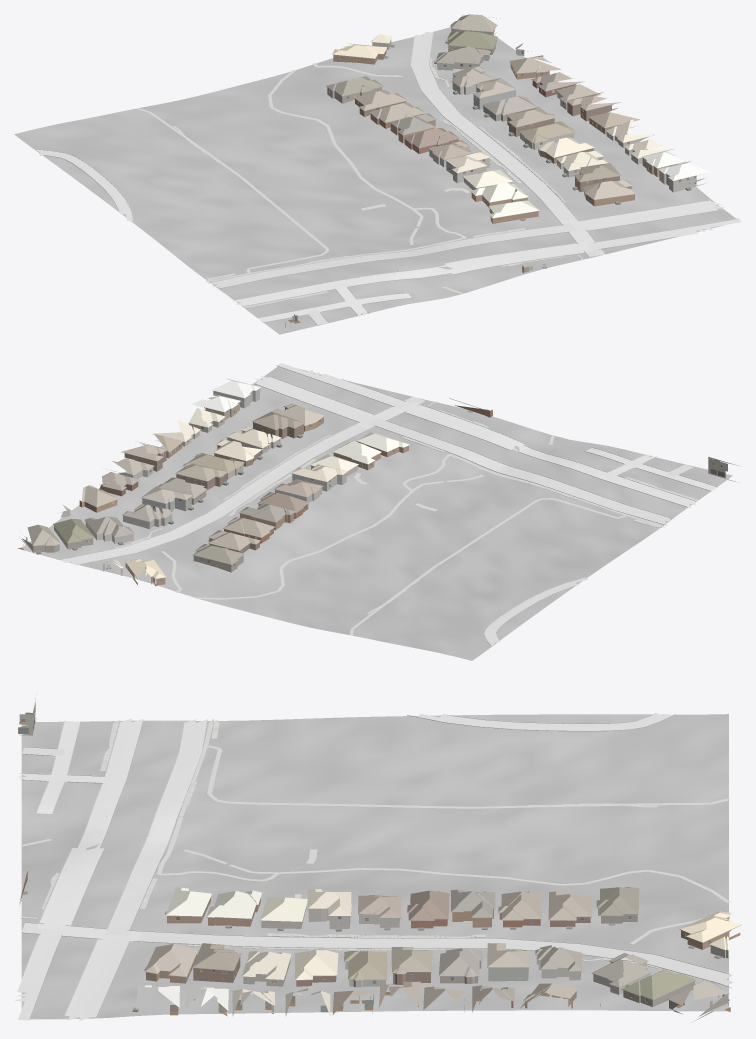
The picture shows the model from 3 angles, top to bottom: view 1: azimuth 30°, elevation 25°; view 2: azimuth 150°, elevation 25°; view 3: azimuth 270°, elevation 25°; orthographic projection. The views are drawn at different scales.
Parts seen in each view (by area): view 1: ground, roof, asphalt, concrete, wall, walk, curb, detail, wall_stone, wall_stucco, mark_w; view 2: ground, roof, asphalt, concrete, wall, walk, curb, wall_stone, detail, wall_stucco; view 3: ground, roof, asphalt, concrete, walk, wall, curb, wall_stone, detail, wall_stucco, mark_w, room (+1 smaller).
Part boxes in pixels (bbox=[...]): ground: bbox=[14, 27, 736, 334]; roof: bbox=[326, 14, 710, 218]; asphalt: bbox=[209, 200, 741, 306]; concrete: bbox=[35, 32, 605, 324]; wall: bbox=[327, 28, 677, 272]; walk: bbox=[136, 58, 582, 308]; curb: bbox=[34, 31, 738, 324]; detail: bbox=[279, 15, 700, 329]; wall_stone: bbox=[429, 49, 705, 192]; wall_stucco: bbox=[372, 40, 642, 177]; mark_w: bbox=[211, 200, 724, 305]; ground: bbox=[21, 366, 732, 660]; roof: bbox=[27, 378, 409, 578]; asphalt: bbox=[255, 363, 695, 524]; concrete: bbox=[62, 396, 717, 645]; wall: bbox=[21, 402, 492, 586]; walk: bbox=[114, 401, 697, 635]; curb: bbox=[56, 365, 717, 646]; wall_stone: bbox=[60, 388, 357, 543]; detail: bbox=[22, 387, 725, 581]; wall_stucco: bbox=[103, 418, 280, 575]; ground: bbox=[21, 714, 728, 1019]; roof: bbox=[136, 887, 741, 1016]; asphalt: bbox=[14, 718, 206, 1020]; concrete: bbox=[17, 713, 733, 985]; walk: bbox=[21, 718, 731, 968]; wall: bbox=[19, 871, 740, 1022]; curb: bbox=[17, 713, 731, 1019]; wall_stone: bbox=[261, 906, 650, 1011]; detail: bbox=[18, 710, 741, 1012]; wall_stucco: bbox=[243, 945, 729, 1013]; mark_w: bbox=[21, 719, 206, 1018]; room: bbox=[19, 712, 730, 1015].
Size of the model in its own units: 269 by 14.44 by 257.
